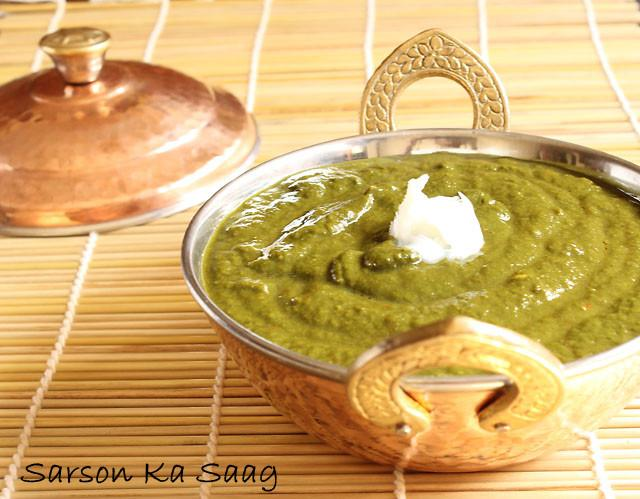saag: (204, 153, 640, 368)
